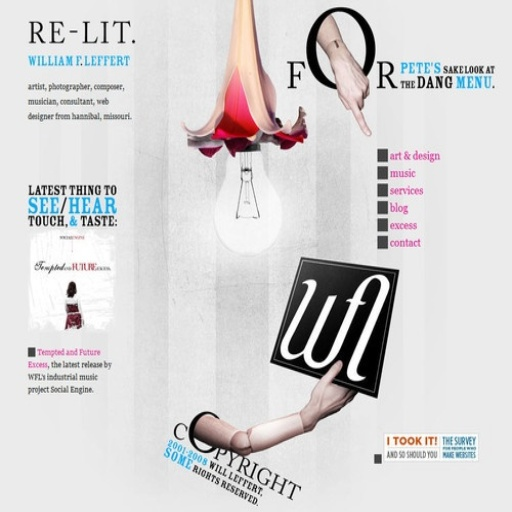hand: (328, 38, 371, 134), (291, 378, 353, 432)
